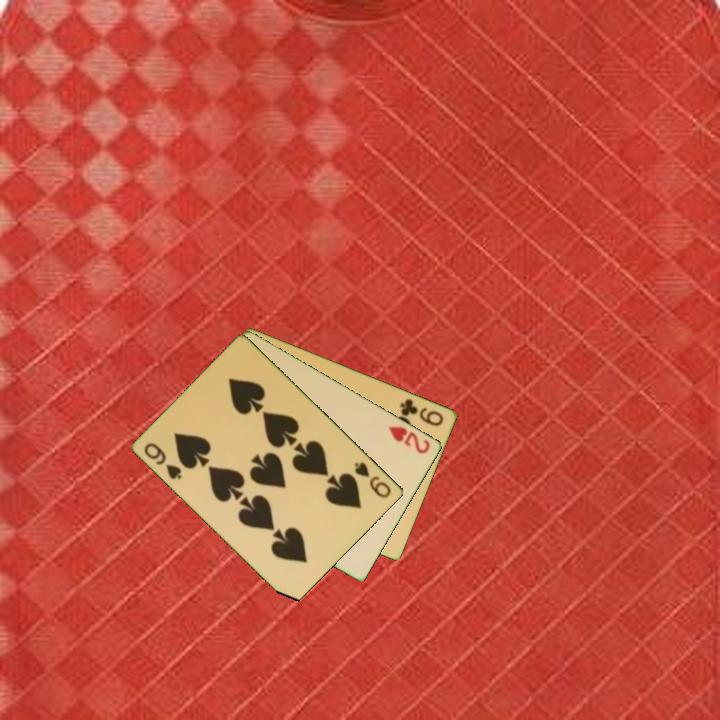2h: (385, 422, 434, 457)
9c: (397, 395, 447, 429)
9s: (351, 458, 395, 501), (141, 439, 185, 482)
